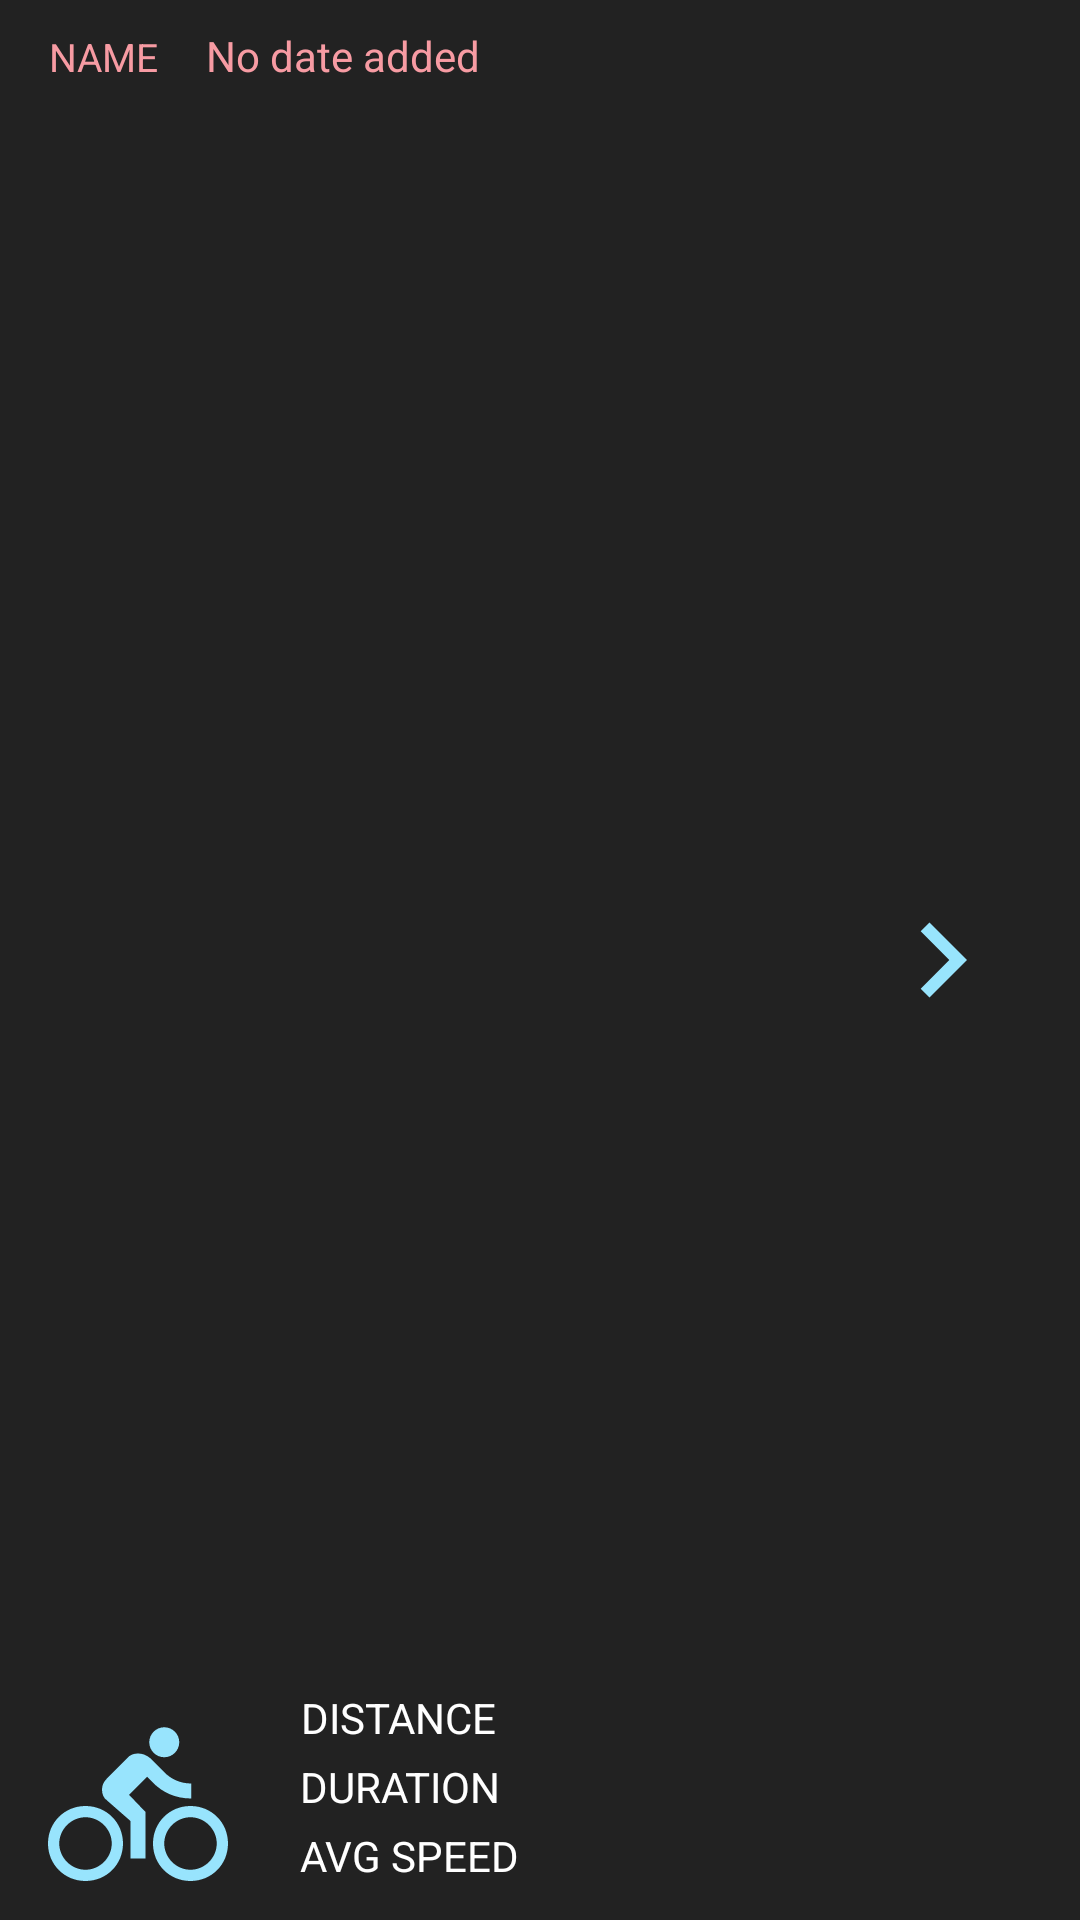

Where to tap for icons on this 1080×1920 app screen, as (x=x, y=y):
activity type: (x=138, y=1804)
keyboard arrow right: (x=944, y=960)
